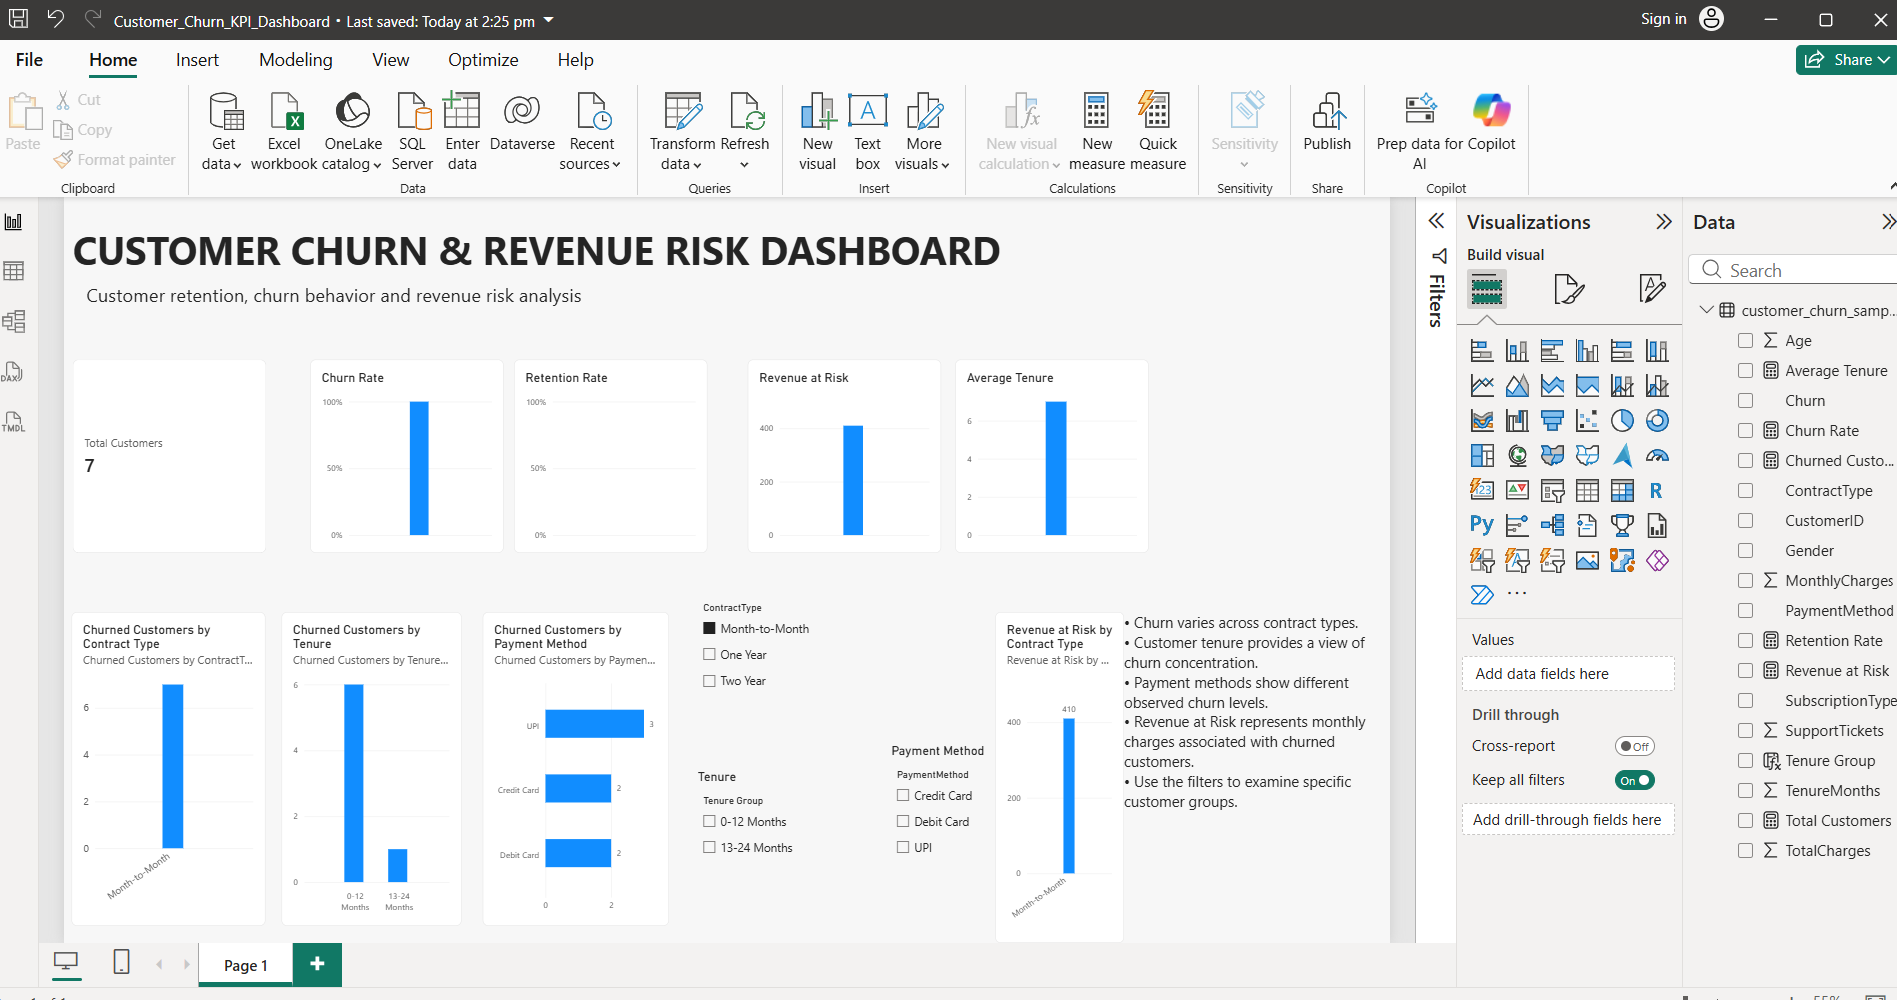

This screenshot's page, from the dashboard's own definition file:
{"tool":"powerbi","page":{"name":"Page 1","canvas":[1920,1080],"ordinal":0},"visuals":[{"type":"cardVisual","fields":{"Data":["customer_churn_sample (2).Total Customers"]},"box":[12.7,235.3,280,280],"z":0},{"type":"clusteredColumnChart","fields":{"Y":["customer_churn_sample (2).Churn Rate"]},"box":[356.5,235.3,280,280],"z":1},{"type":"clusteredColumnChart","fields":{"Y":["customer_churn_sample (2).Retention Rate"]},"box":[651.5,235.3,280,280],"z":2},{"type":"clusteredColumnChart","fields":{"Y":["customer_churn_sample (2).Revenue at Risk"]},"box":[989.9,235.3,280,280],"z":3},{"type":"clusteredColumnChart","fields":{"Y":["customer_churn_sample (2).Average Tenure"]},"box":[1290.3,235.3,280,280],"z":4},{"type":"clusteredColumnChart","title":"Churned Customers by Tenure","fields":{"Category":["customer_churn_sample (2).Tenure Group"],"Y":["customer_churn_sample (2).Churned Customers"]},"box":[314.9,600.8,260.6,454.2],"z":6},{"type":"clusteredColumnChart","title":"Churned Customers by Contract Type","fields":{"Category":["customer_churn_sample (2).ContractType"],"Y":["customer_churn_sample (2).Churned Customers"]},"box":[10.9,600.8,280.5,454.2],"z":7},{"type":"clusteredBarChart","title":"Churned Customers by Payment Method","fields":{"Category":["customer_churn_sample (2).PaymentMethod"],"Y":["customer_churn_sample (2).Churned Customers"]},"box":[606.2,600.8,269.6,454.2],"z":8},{"type":"slicer","fields":{"Values":["customer_churn_sample (2).ContractType"]},"box":[917.5,586.3,244.3,222.6],"z":9},{"type":"slicer","title":"Tenure","fields":{"Values":["customer_churn_sample (2).Tenure Group"]},"box":[917.5,828.8,244.3,200.9],"z":10},{"type":"slicer","title":"Payment Method","fields":{"Values":["customer_churn_sample (2).PaymentMethod"]},"box":[1198,790.8,244.3,217.2],"z":11},{"type":"clusteredColumnChart","title":"Revenue at Risk by Contract Type","fields":{"Category":["customer_churn_sample (2).ContractType"],"Y":["customer_churn_sample (2).Revenue at Risk"]},"box":[1348.2,600.8,186.4,479.6],"z":12},{"type":"textbox","box":[12.7,38,1558.1,170.1],"z":13},{"type":"textbox","box":[32.6,123.1,1887.5,85.1],"z":14},{"type":"textbox","box":[1534,601,386,479],"z":15}]}

Visuals, with their boxes on the page's 1920x1080 design canvas (x1, y1, x2, y2). These are canvas units, not pixel positions in the 1897x1000 screenshot, which may show the page scaled, cropped or inside an application window:
cardVisual - customer_churn_sample (2).Total Customers: region(13, 235, 293, 515)
clusteredColumnChart - customer_churn_sample (2).Churn Rate: region(356, 235, 636, 515)
clusteredColumnChart - customer_churn_sample (2).Retention Rate: region(652, 235, 932, 515)
clusteredColumnChart - customer_churn_sample (2).Revenue at Risk: region(990, 235, 1270, 515)
clusteredColumnChart - customer_churn_sample (2).Average Tenure: region(1290, 235, 1570, 515)
"Churned Customers by Tenure" clusteredColumnChart: region(315, 601, 576, 1055)
"Churned Customers by Contract Type" clusteredColumnChart: region(11, 601, 291, 1055)
"Churned Customers by Payment Method" clusteredBarChart: region(606, 601, 876, 1055)
slicer - customer_churn_sample (2).ContractType: region(918, 586, 1162, 809)
"Tenure" slicer: region(918, 829, 1162, 1030)
"Payment Method" slicer: region(1198, 791, 1442, 1008)
"Revenue at Risk by Contract Type" clusteredColumnChart: region(1348, 601, 1535, 1080)
textbox: region(13, 38, 1571, 208)
textbox: region(33, 123, 1920, 208)
textbox: region(1534, 601, 1920, 1080)
